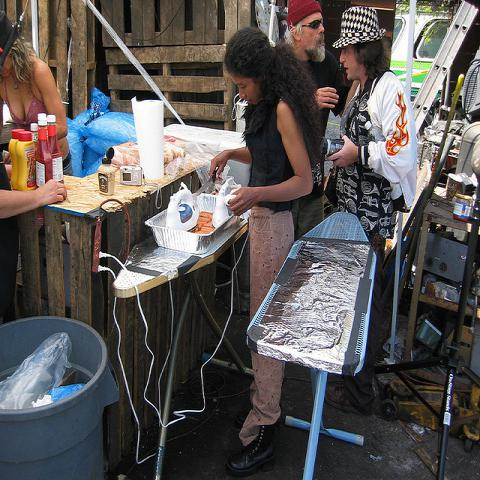car: (391, 11, 457, 61)
